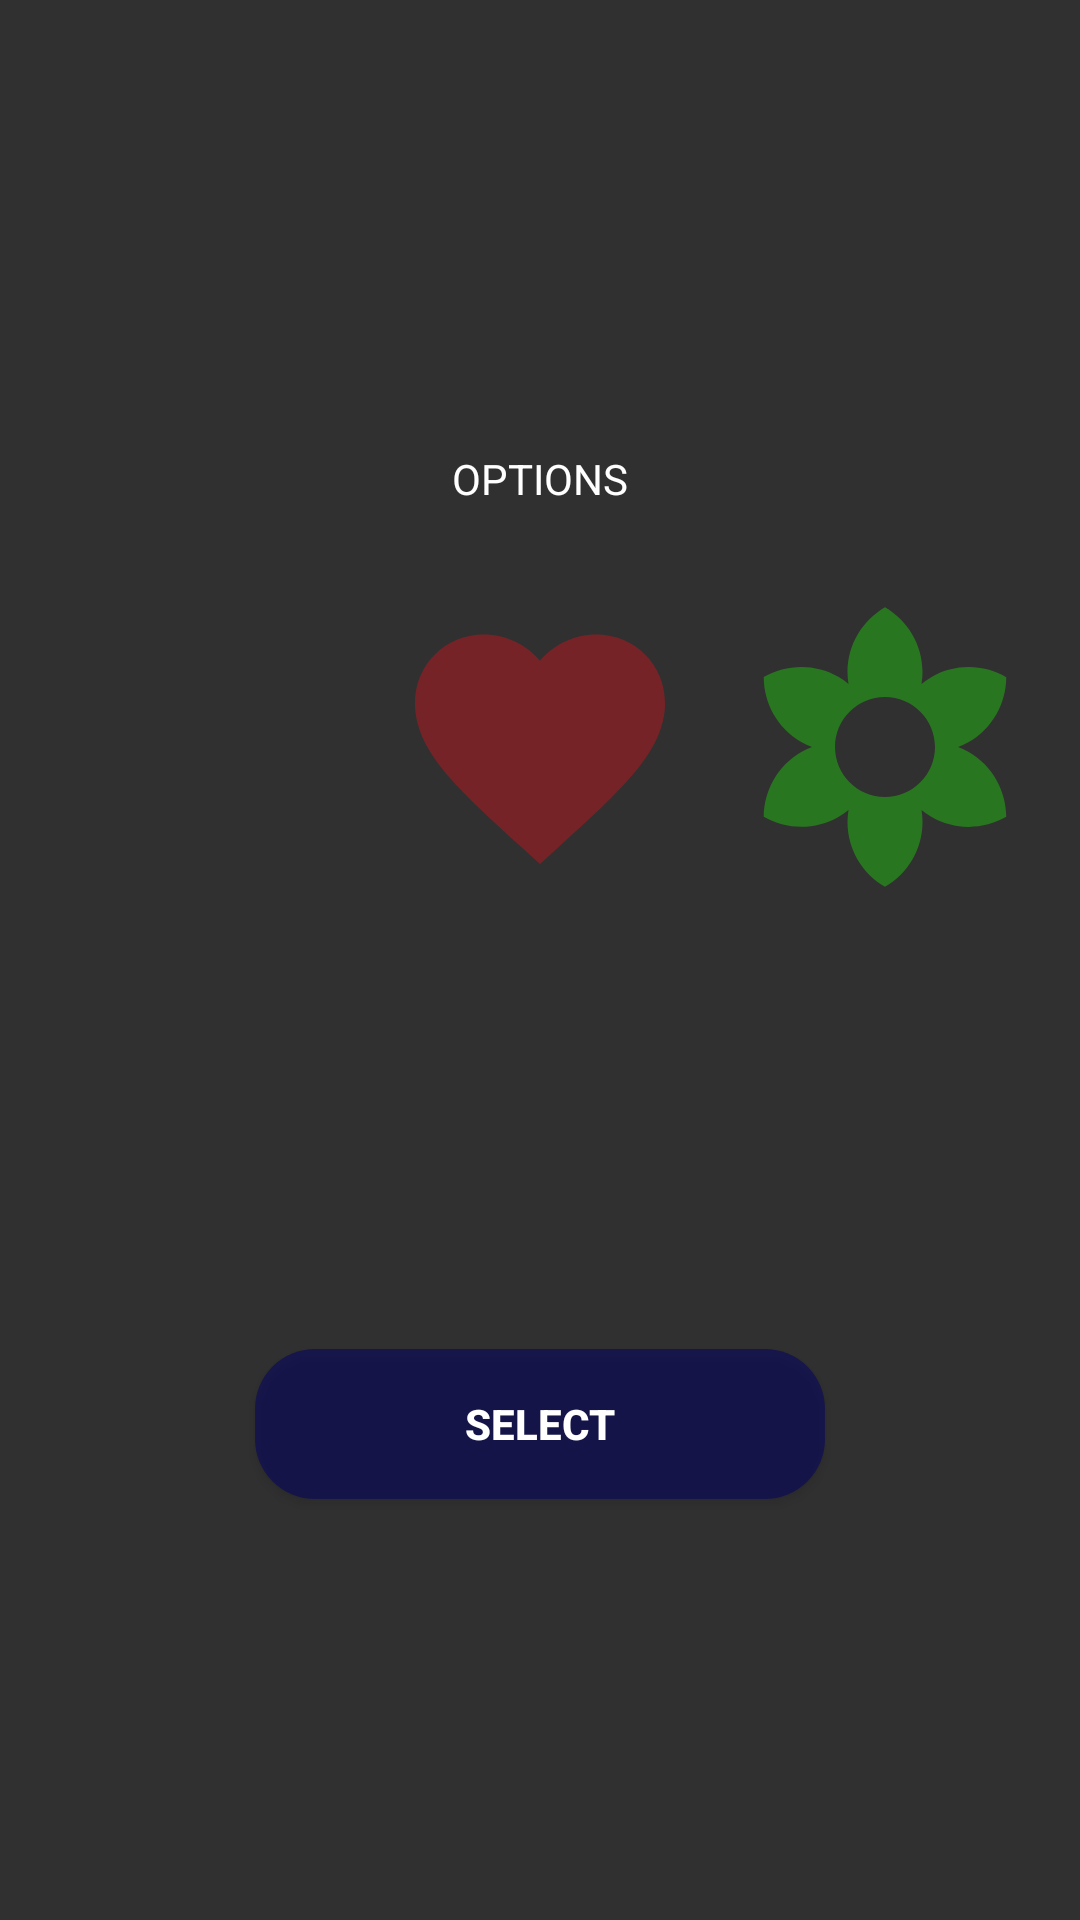

Locate icon controls on the screen. Image size 1080*1920, boxes as bbox=[x1, y1, x2, y2].
Flower: bbox=[764, 607, 1006, 887]
Heart: bbox=[415, 634, 665, 864]
